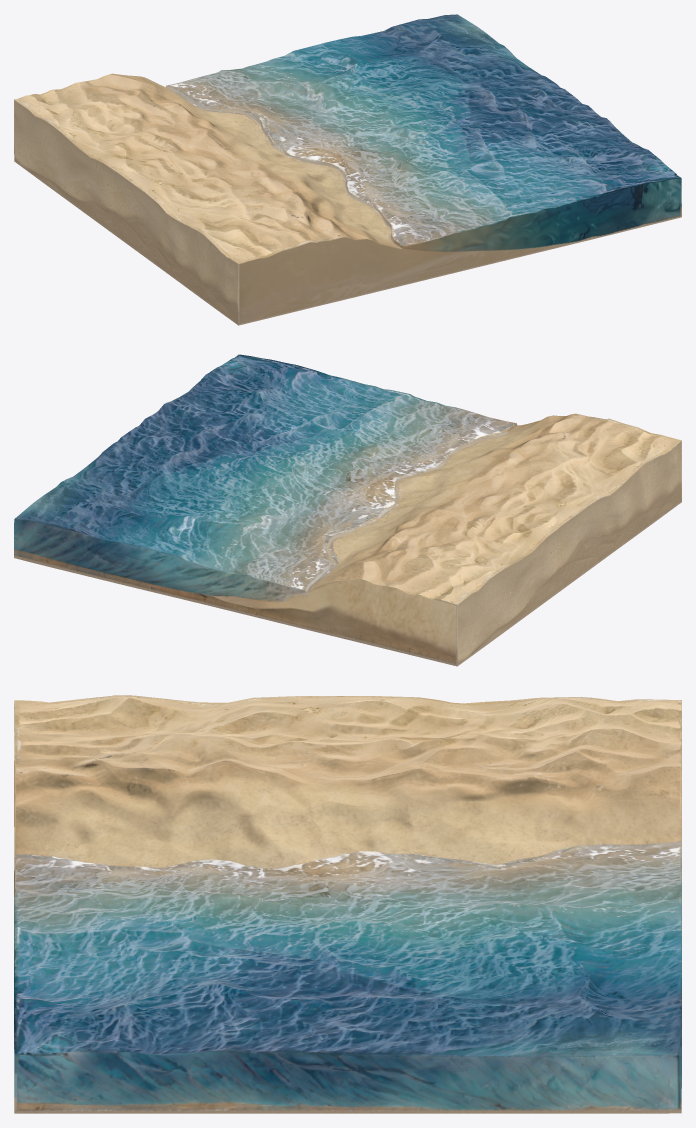
File: beach_scene.glb
The picture shows the model from 3 angles, top to bottom: view 1: azimuth 30°, elevation 25°; view 2: azimuth 150°, elevation 25°; view 3: azimuth 270°, elevation 25°; orthographic projection. The views are drawn at different scales.
Parts seen in each view (by area): view 1: Mesh_0_modddif_material_0_0; view 2: Mesh_0_modddif_material_0_0; view 3: Mesh_0_modddif_material_0_0.
Boxes of the visible parts, x1,y1,x2,y2 form: Mesh_0_modddif_material_0_0: [14, 14, 681, 325]; Mesh_0_modddif_material_0_0: [14, 354, 681, 666]; Mesh_0_modddif_material_0_0: [14, 695, 681, 1113].
Size of the model in its own units: 1 by 0.153 by 0.8768.
1 material, 1 textured.
